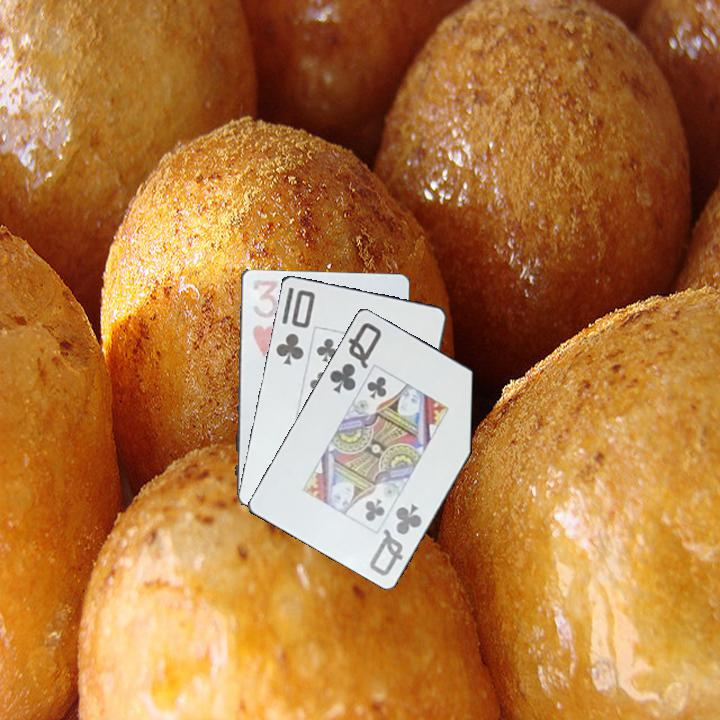3h: (248, 276, 280, 359)
Qc: (366, 500, 425, 579), (326, 318, 384, 396)
Tc: (272, 286, 318, 368)
